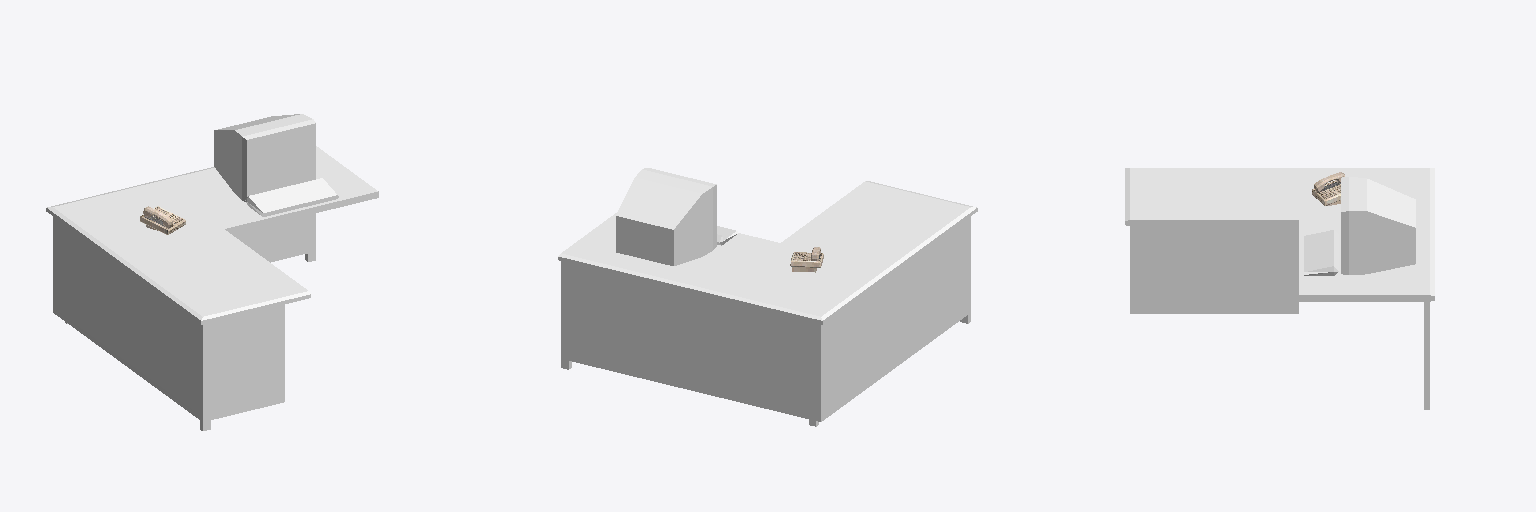
The picture shows the model from 3 angles: view 1: azimuth 30°, elevation 25°; view 2: azimuth 150°, elevation 25°; view 3: azimuth 270°, elevation 25°; orthographic projection.
Parts seen in each view (by area): view 1: officedesk1l; view 2: officedesk1l; view 3: officedesk1l.
Boxes of the visible parts, <box> form: officedesk1l: <box>46,114,378,430</box>; officedesk1l: <box>558,168,977,426</box>; officedesk1l: <box>1125,168,1434,409</box>.
Size of the model in its own units: 1.96 by 1.26 by 1.99.
Materials: 7 (2 with a texture image).